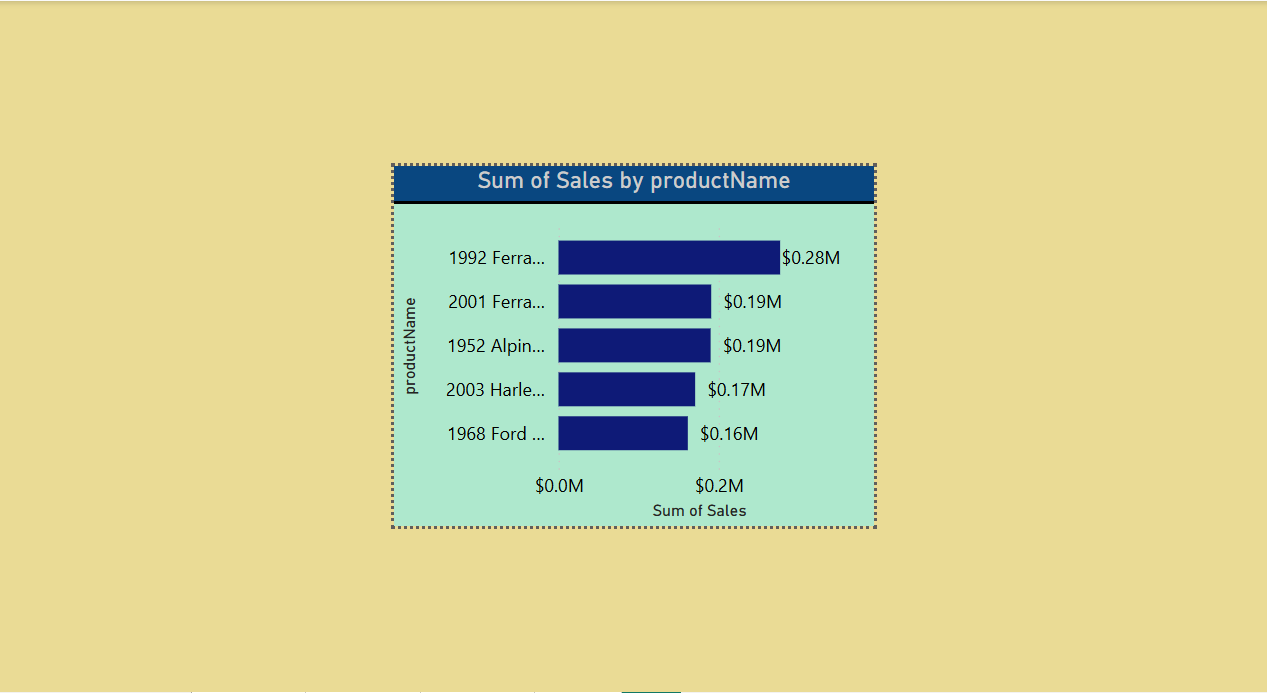

This screenshot's page, from the dashboard's own definition file:
{"tool":"powerbi","page":{"name":"Tp1","canvas":[320,240],"ordinal":3},"visuals":[{"type":"barChart","fields":{"Category":["products.productName"],"Y":["Sum(order details.Sales)"]},"box":[0,0,320,240],"z":0}]}

Visuals, with their boxes on the page's 320x240 design canvas (x1, y1, x2, y2). These are canvas units, not pixel positions in the 1267x693 screenshot, which may show the page scaled, cropped or inside an application window:
barChart - products.productName x Sum(order details.Sales): 0, 0, 320, 240
